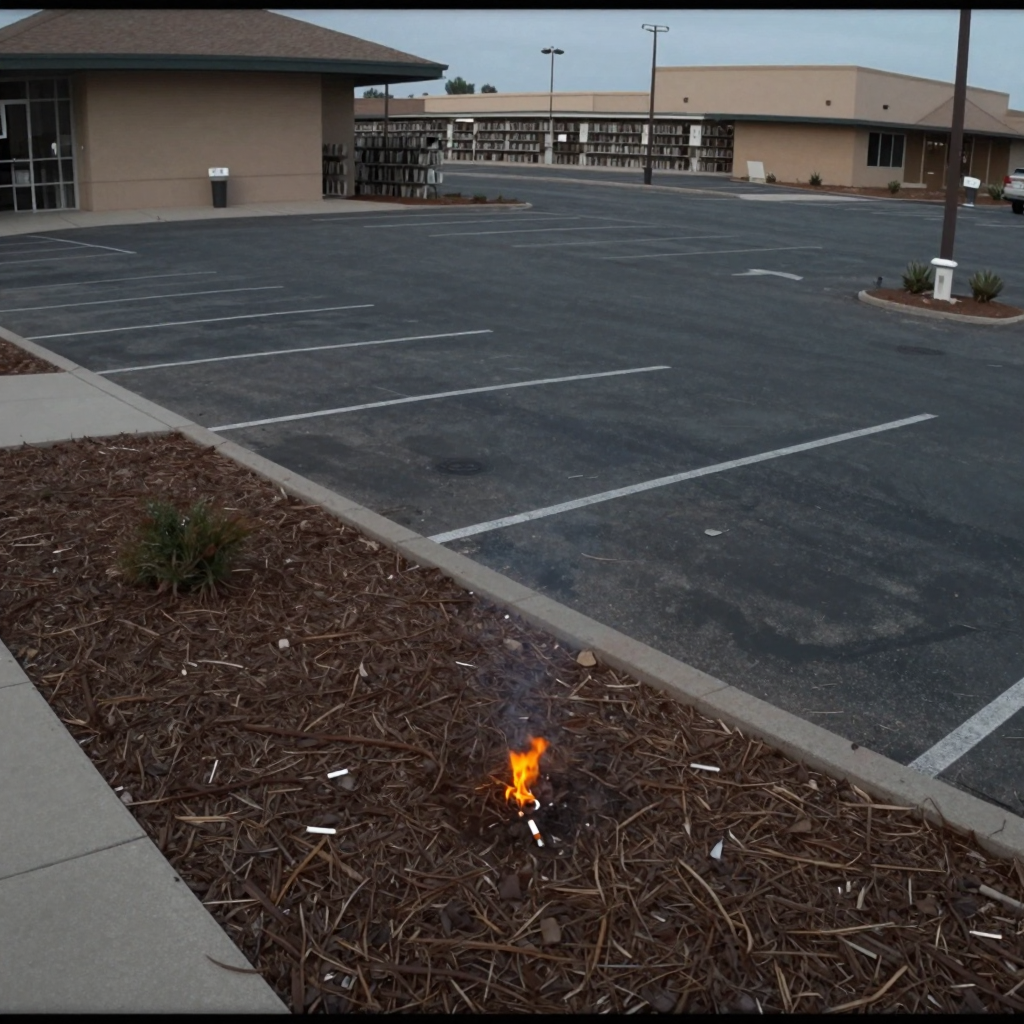Arson: (499, 725, 565, 819)
